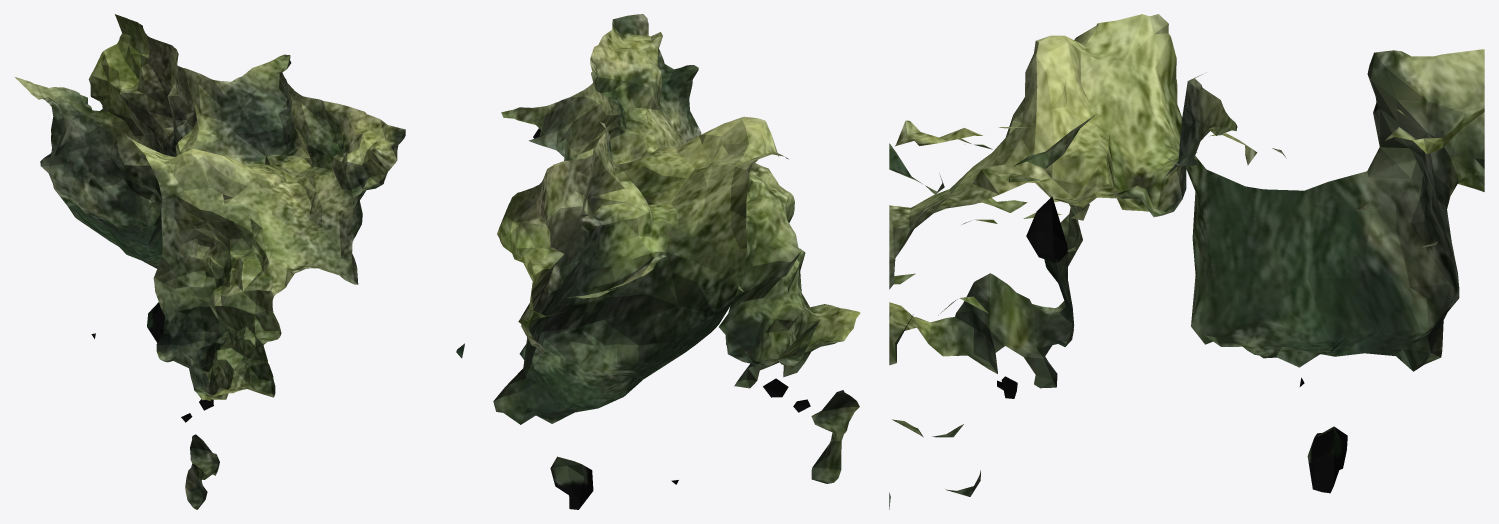
The picture shows the model from 3 angles, left to right: view 1: azimuth 30°, elevation 25°; view 2: azimuth 150°, elevation 25°; view 3: azimuth 270°, elevation 25°; orthographic projection. The views are drawn at different scales.
Size of the model in its own units: 8.37 by 10.88 by 11.8.
3 materials, 3 textured.
